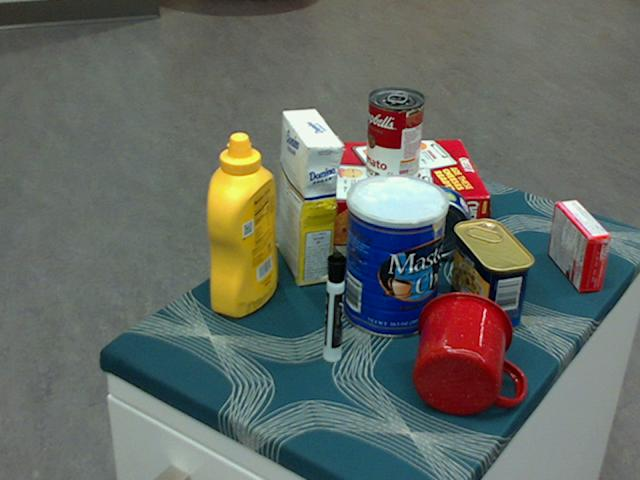cracker_box: (301, 138, 489, 248)
gelatin_box: (548, 200, 611, 293)
large_marker: (322, 251, 345, 363)
master_chef_can: (344, 173, 449, 338)
mug: (413, 290, 523, 415)
mustard_bottle: (205, 132, 278, 318)
potted_meat_can: (451, 219, 535, 332)
sugar_box: (278, 109, 341, 288)
tomato_soup_can: (367, 88, 425, 186)
tuna_fish_can: (398, 184, 471, 259)
